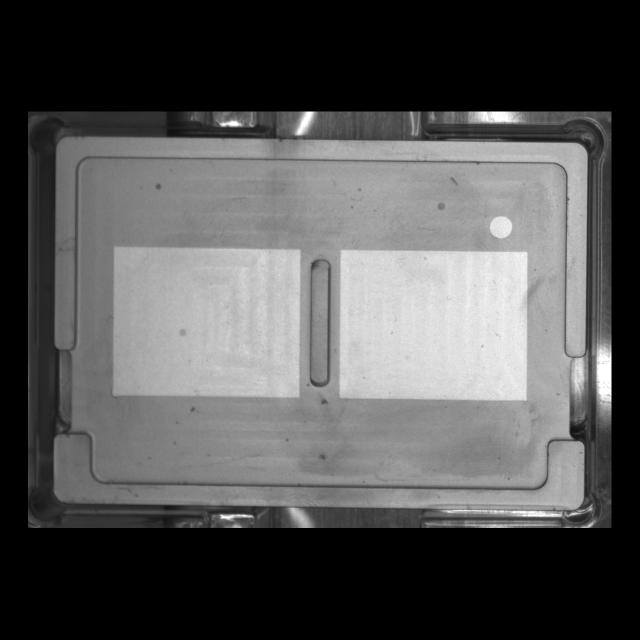door: (43, 422, 596, 520)
point: (481, 206, 521, 247)
